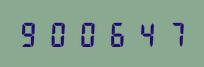four: (130, 20, 157, 47)
nine: (17, 20, 44, 47)
seven: (158, 20, 185, 47)
six: (102, 20, 129, 47)
zero: (45, 20, 72, 47), (74, 20, 101, 47)
